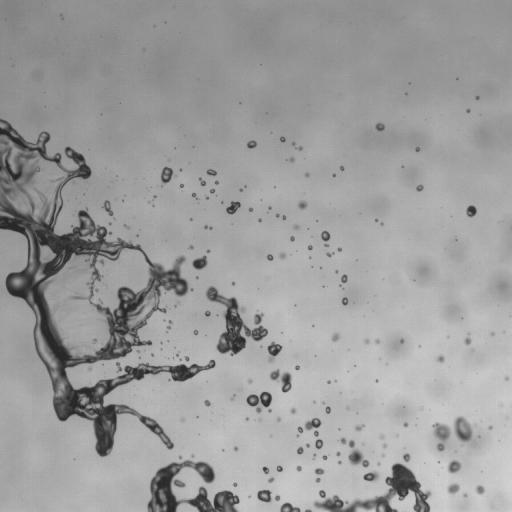droplet: (147, 456, 239, 511), (205, 286, 267, 355), (297, 418, 322, 449), (453, 416, 474, 442), (246, 391, 271, 412), (432, 422, 450, 451), (270, 369, 291, 392), (267, 341, 282, 362), (161, 167, 174, 184), (192, 255, 207, 269), (257, 489, 272, 502), (363, 470, 379, 482), (226, 201, 240, 214), (448, 460, 461, 473), (103, 200, 113, 215), (447, 483, 460, 494), (321, 231, 330, 246), (466, 205, 476, 217), (298, 200, 307, 209), (475, 485, 484, 494), (375, 123, 384, 131), (247, 140, 256, 148), (464, 335, 471, 345), (354, 424, 364, 431), (314, 468, 324, 475), (332, 332, 339, 341), (206, 169, 216, 175), (403, 453, 410, 461), (341, 274, 347, 283), (279, 252, 286, 259), (437, 355, 444, 362), (262, 466, 269, 473), (341, 297, 347, 305), (199, 178, 205, 185), (416, 185, 423, 191), (297, 447, 303, 454), (267, 254, 273, 260), (204, 400, 210, 406), (325, 406, 330, 413), (280, 136, 285, 142), (290, 408, 296, 413), (322, 455, 328, 460), (277, 465, 282, 471), (326, 252, 333, 256), (289, 157, 294, 162), (192, 193, 197, 198), (205, 311, 210, 316), (92, 338, 97, 343), (184, 356, 189, 361), (379, 434, 384, 439), (296, 466, 301, 471), (268, 477, 273, 482), (274, 495, 279, 500), (296, 146, 302, 150), (293, 225, 299, 229), (305, 172, 309, 177), (290, 236, 294, 241), (307, 245, 312, 249), (193, 330, 198, 334), (364, 339, 369, 343), (375, 339, 379, 344), (316, 477, 320, 482), (415, 147, 419, 151), (210, 189, 214, 193), (189, 245, 193, 249), (337, 247, 341, 251), (295, 365, 299, 369), (248, 379, 252, 383), (463, 493, 467, 497), (466, 109, 470, 112), (340, 166, 343, 170), (249, 207, 252, 211), (124, 225, 128, 228), (504, 377, 508, 380), (231, 396, 234, 400), (382, 444, 386, 447), (336, 452, 340, 455), (233, 482, 236, 486), (215, 181, 218, 184), (276, 214, 279, 217), (282, 215, 285, 218), (400, 339, 403, 342), (277, 418, 280, 421), (404, 423, 407, 426), (489, 426, 492, 429), (234, 447, 237, 450), (313, 454, 316, 457), (338, 461, 341, 464), (476, 96, 478, 99), (332, 174, 335, 176), (52, 180, 55, 182), (180, 184, 182, 187), (153, 196, 156, 198), (206, 196, 208, 199), (258, 219, 261, 221), (207, 249, 209, 252), (176, 353, 179, 355), (327, 380, 329, 383), (268, 409, 271, 411), (246, 417, 248, 420), (306, 444, 309, 446), (293, 142, 295, 144), (375, 219, 377, 221), (233, 282, 235, 284), (176, 302, 178, 304), (491, 333, 493, 335), (137, 350, 139, 352), (88, 367, 90, 369), (181, 419, 183, 421)
ligament: (0, 118, 213, 457), (313, 462, 431, 511), (339, 437, 369, 467), (280, 502, 300, 511), (167, 320, 172, 330), (204, 226, 211, 229), (304, 509, 312, 511)
